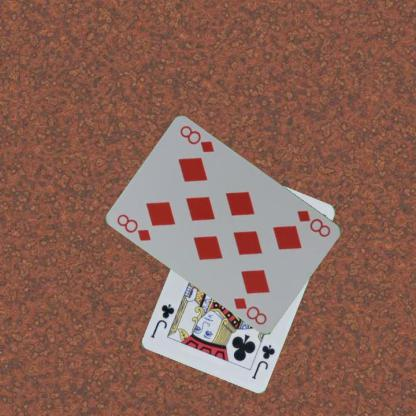8d: (115, 211, 152, 243), (295, 208, 332, 238)
Jc: (249, 342, 276, 380)
